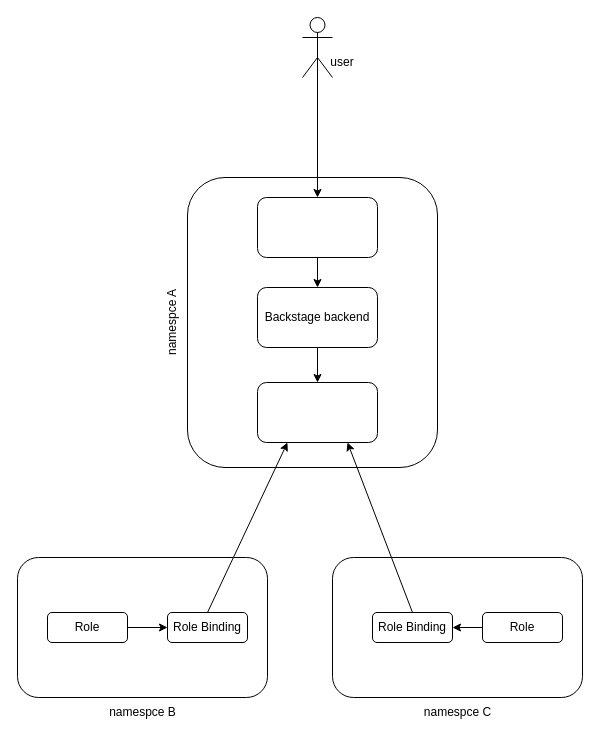
Image size: 600x745. Some labels were removed from this diagram. The centre of each missing label's shape, as x and y in pixels:
Backstage frontend: (x=317, y=227)
Service account: (x=317, y=412)
